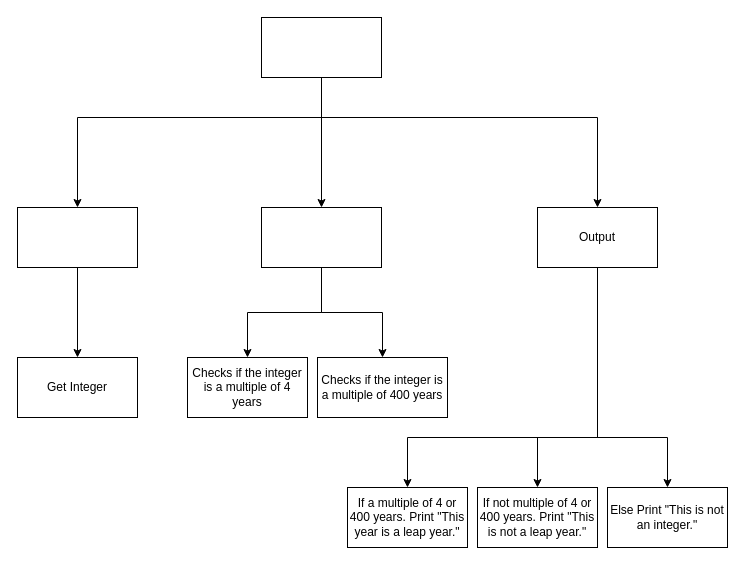
Image size: 745x565. Some labels were removed from this diagram. The box of each missing label's shape, as (x1, y1, x2, y2) in pixels:
Input: (16, 206, 138, 268)
Leap Year: (260, 16, 382, 78)
Process: (260, 206, 382, 268)
